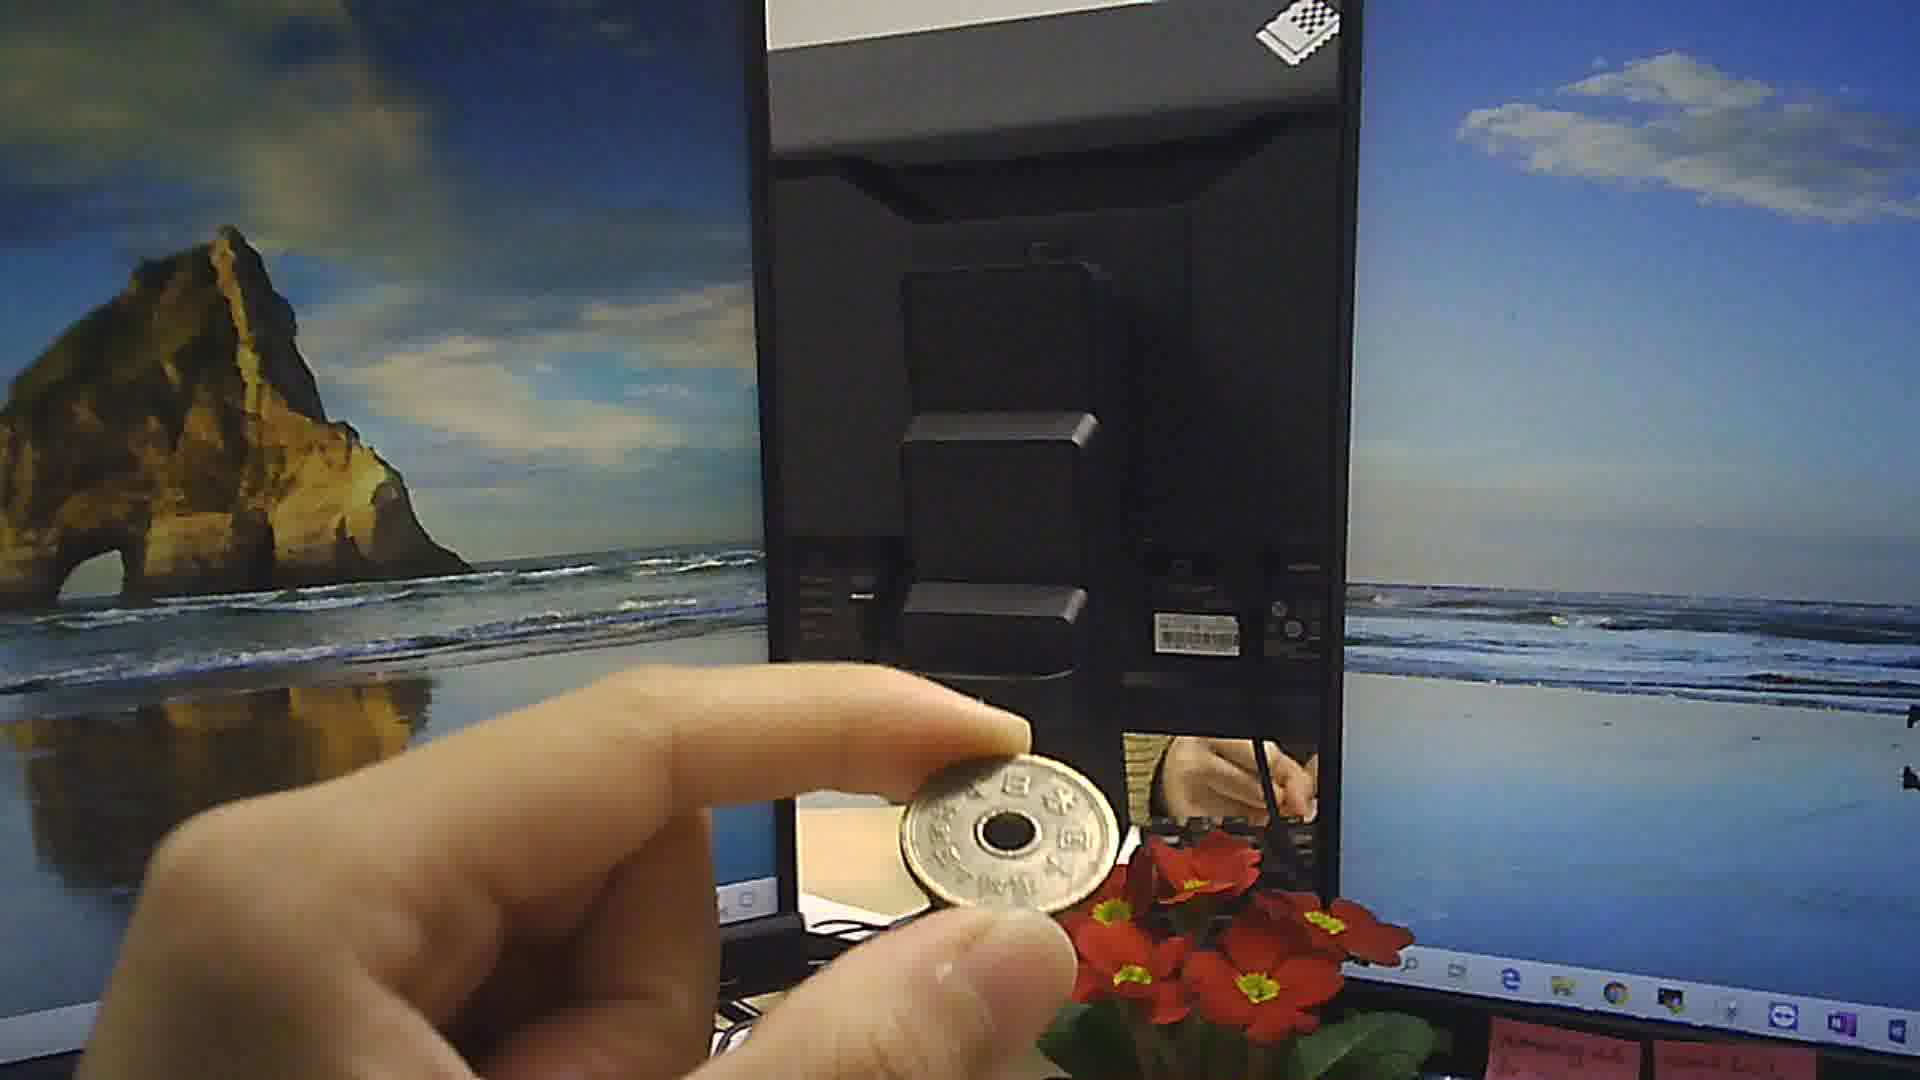5 Yen: (901, 752, 1124, 923)
